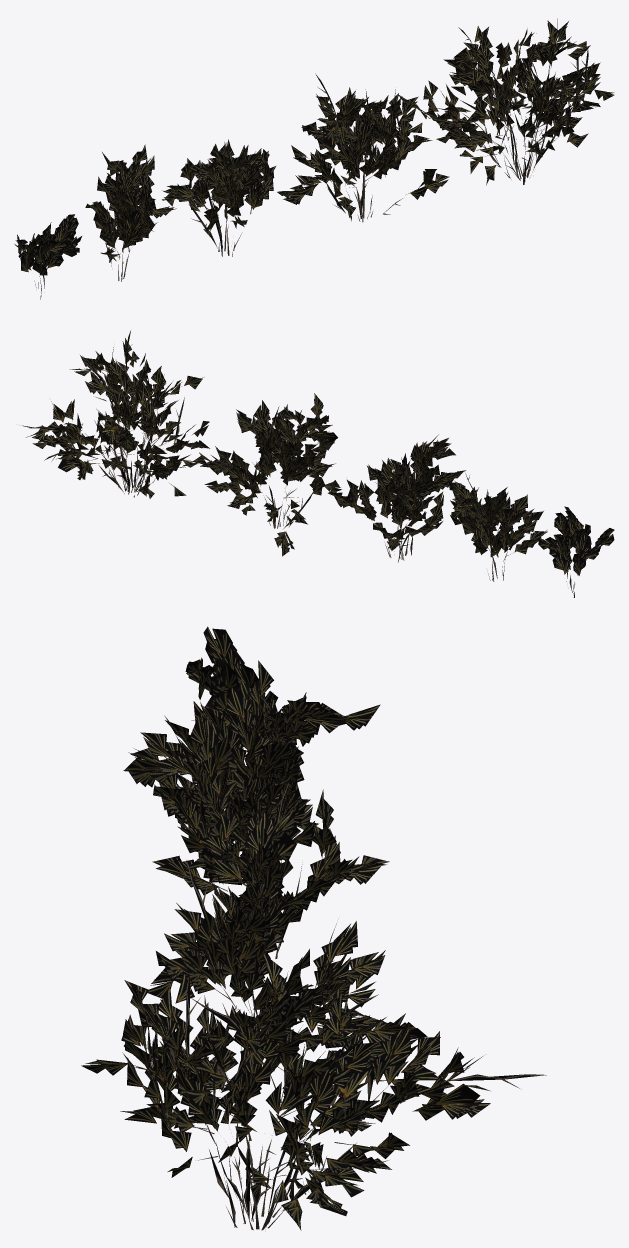
The model's file is med_bush.glb.
3 renders of one model, top to bottom at view 1: azimuth 30°, elevation 25°; view 2: azimuth 150°, elevation 25°; view 3: azimuth 270°, elevation 25°, orthographic. The views are drawn at different scales.
Visible parts, largest first — view 1: wild_rooibos_bush_a, wild_rooibos_bush_b, wild_rooibos_bush_c, wild_rooibos_bush_d, wild_rooibos_bush_e; view 2: wild_rooibos_bush_a, wild_rooibos_bush_b, wild_rooibos_bush_c, wild_rooibos_bush_d, wild_rooibos_bush_e; view 3: wild_rooibos_bush_a, wild_rooibos_bush_b, wild_rooibos_bush_c, wild_rooibos_bush_d, wild_rooibos_bush_e.
Boxes of the visible parts, bbox=[...] form: wild_rooibos_bush_a: bbox=[398, 18, 614, 185]; wild_rooibos_bush_b: bbox=[277, 73, 449, 222]; wild_rooibos_bush_c: bbox=[162, 139, 275, 256]; wild_rooibos_bush_d: bbox=[85, 144, 176, 281]; wild_rooibos_bush_e: bbox=[14, 214, 81, 299]; wild_rooibos_bush_a: bbox=[22, 330, 210, 498]; wild_rooibos_bush_b: bbox=[200, 393, 341, 556]; wild_rooibos_bush_c: bbox=[328, 434, 465, 562]; wild_rooibos_bush_d: bbox=[448, 473, 547, 581]; wild_rooibos_bush_e: bbox=[538, 506, 614, 597]; wild_rooibos_bush_a: bbox=[81, 953, 546, 1230]; wild_rooibos_bush_b: bbox=[138, 781, 387, 1070]; wild_rooibos_bush_c: bbox=[123, 711, 389, 960]; wild_rooibos_bush_d: bbox=[164, 660, 380, 814]; wild_rooibos_bush_e: bbox=[185, 626, 278, 747].
Size of the model in its own units: 2.27 by 0.533 by 0.8279.
Materials: 2 (2 with a texture image).
